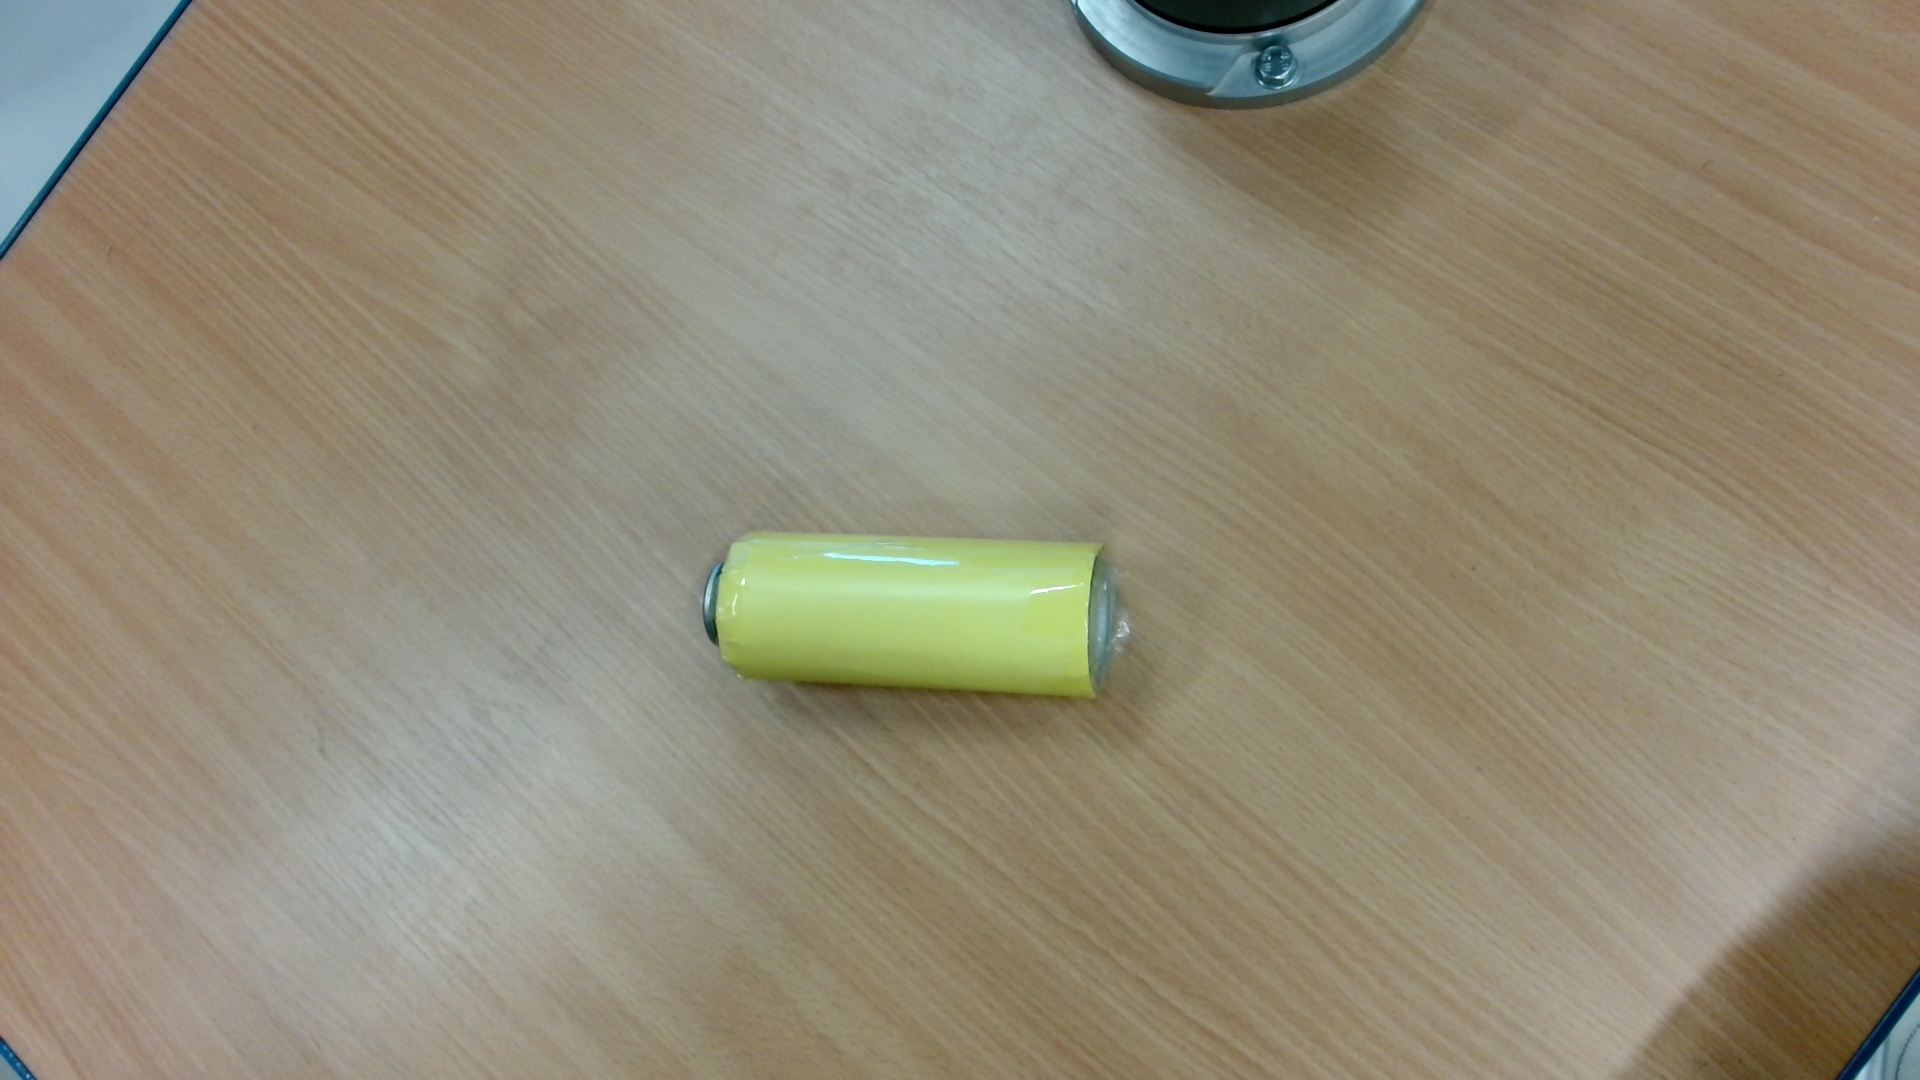Cylinder: (678, 520, 1149, 719)
